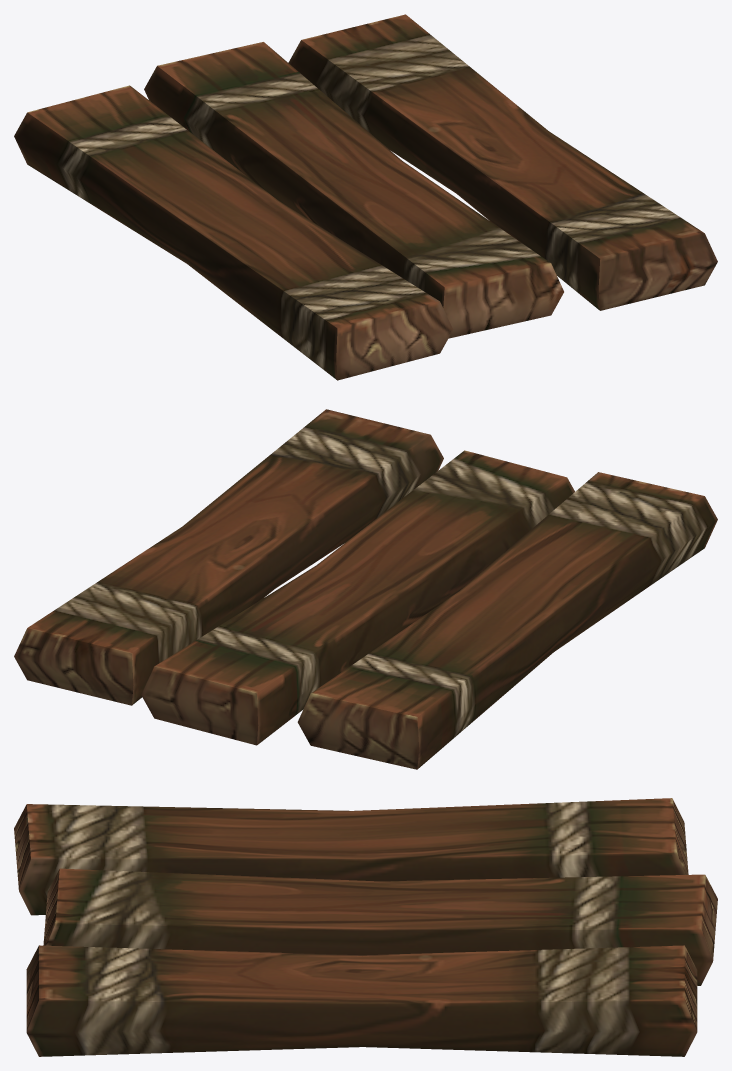
The model's file is rope_bridge_module01.fbx.
The picture shows the model from 3 angles, top to bottom: view 1: azimuth 30°, elevation 25°; view 2: azimuth 150°, elevation 25°; view 3: azimuth 270°, elevation 25°; orthographic projection. The views are drawn at different scales.
Visible parts, largest first — view 1: rope_bridge_module01; view 2: rope_bridge_module01; view 3: rope_bridge_module01.
Boxes of the visible parts, x1,y1,x2,y2 form: rope_bridge_module01: (14, 14, 717, 380); rope_bridge_module01: (14, 409, 717, 769); rope_bridge_module01: (14, 798, 717, 1056).
Bounding box in the file's own units: 97.59 × 12.17 × 138.
